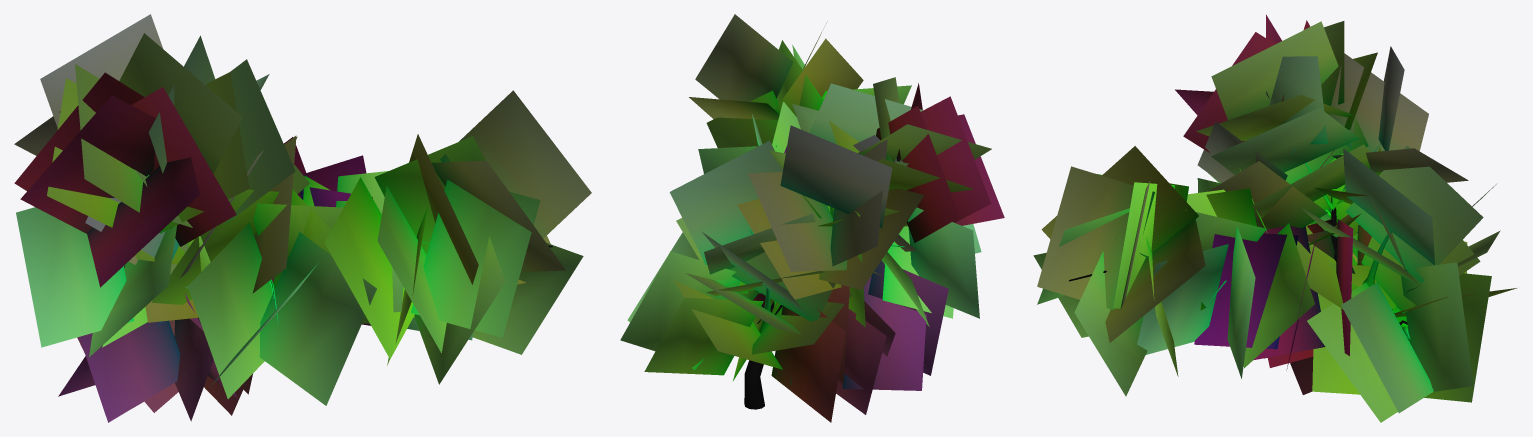
File: URP_P15_Tree_8_LOD_2.fbx
3 views of the same model, side by side, from view 1: azimuth 30°, elevation 25°; view 2: azimuth 150°, elevation 25°; view 3: azimuth 270°, elevation 25° (orthographic). The views are drawn at different scales.
Parts seen in each view (by area): view 1: Tree_8_LOD_2; view 2: Tree_8_LOD_2; view 3: Tree_8_LOD_2.
Part boxes in pixels (x1,y1,x2,y2): Tree_8_LOD_2: (14,14,591,422); Tree_8_LOD_2: (620,14,1004,422); Tree_8_LOD_2: (1033,14,1516,422).
Size of the model in its own units: 717 by 578 by 739.
